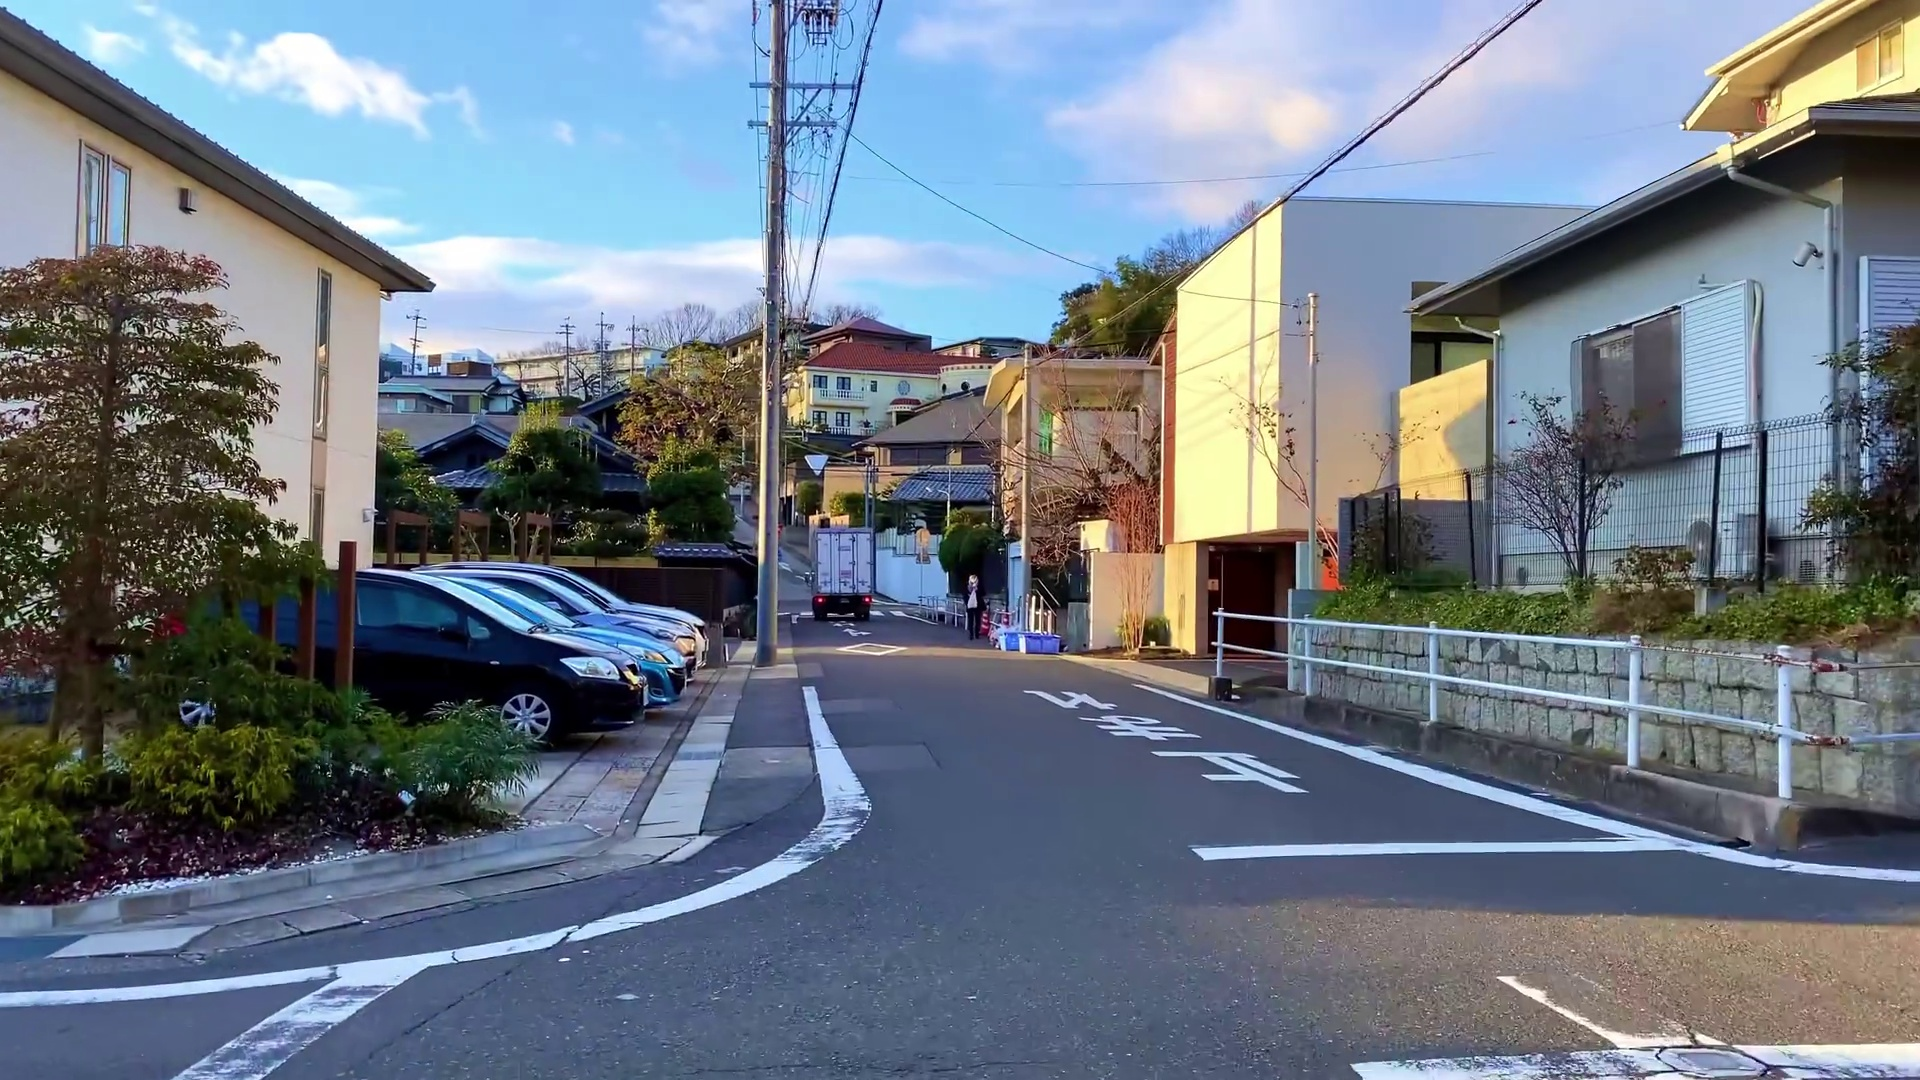car: (357, 556, 644, 746), (426, 570, 676, 717)
